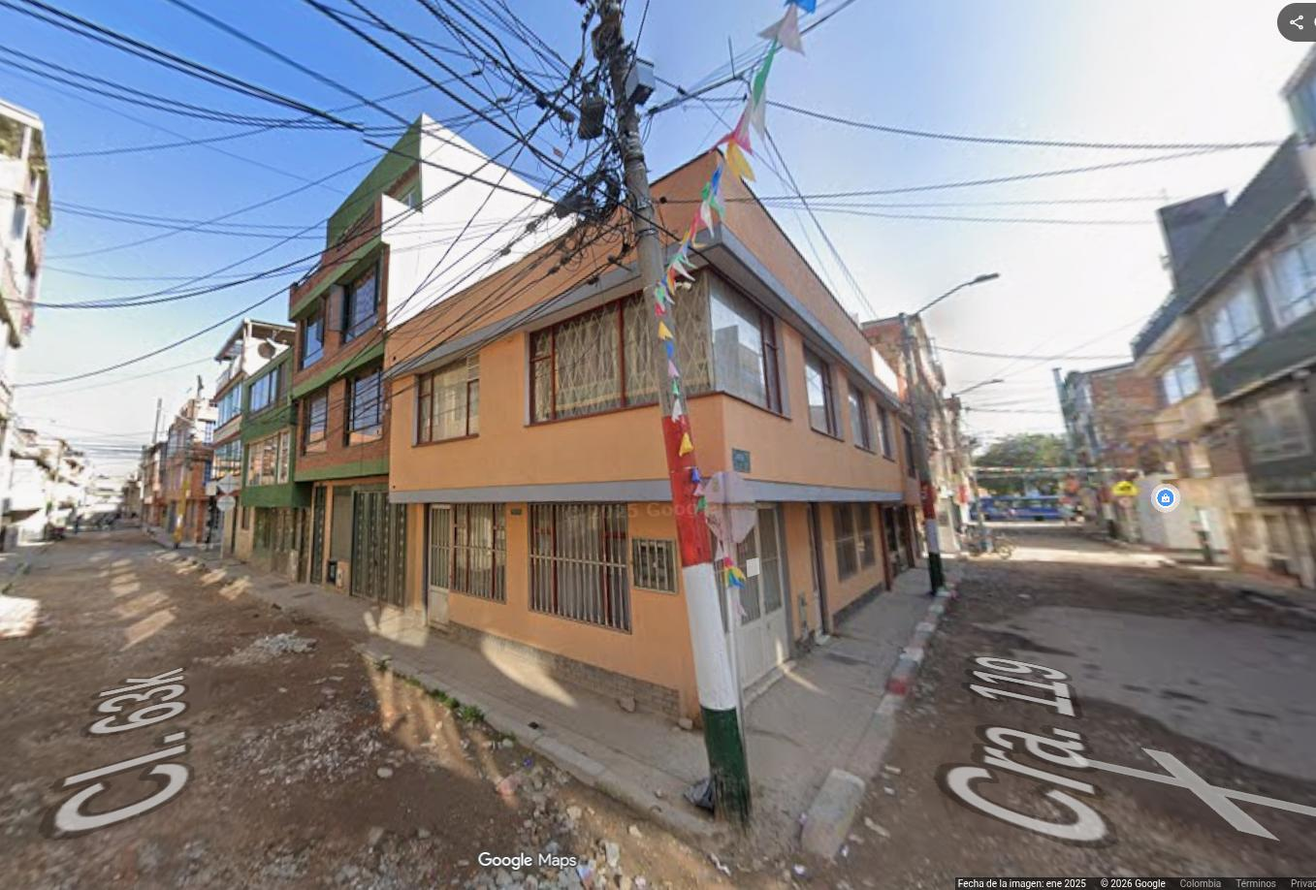casa: (384, 155, 917, 722)
poste: (594, 0, 751, 827), (899, 272, 1000, 597)
